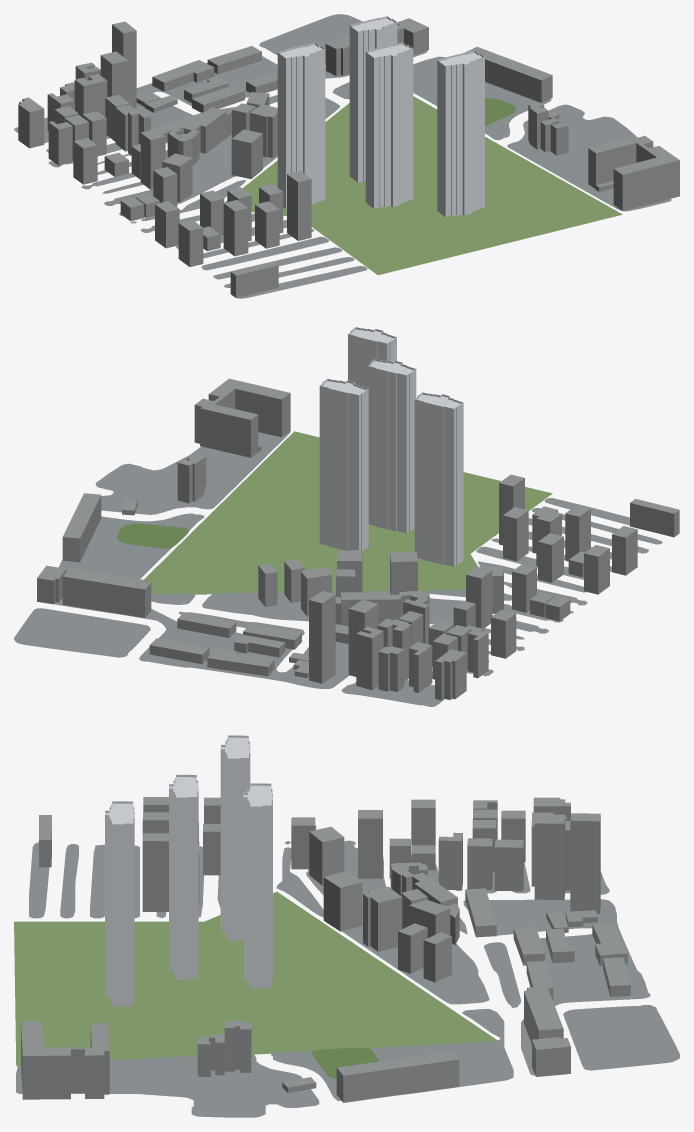
Rendered from abc.dae.
3 views of the same model, one above another, from view 1: azimuth 30°, elevation 25°; view 2: azimuth 150°, elevation 25°; view 3: azimuth 270°, elevation 25° (orthographic). The views are drawn at different scales.
Parts seen in each view (by area): view 1: skpw63PFn (×66); view 2: skpw63PFn (×55); view 3: skpw63PFn (×56).
Boxes of the visible parts, bbox=[...] form: skpw63PFn (×66): bbox=[18, 14, 679, 298]; skpw63PFn (×55): bbox=[14, 329, 679, 706]; skpw63PFn (×56): bbox=[14, 737, 679, 1117].
Bounding box in the file's own units: 12871 × 13078 × 3992.
